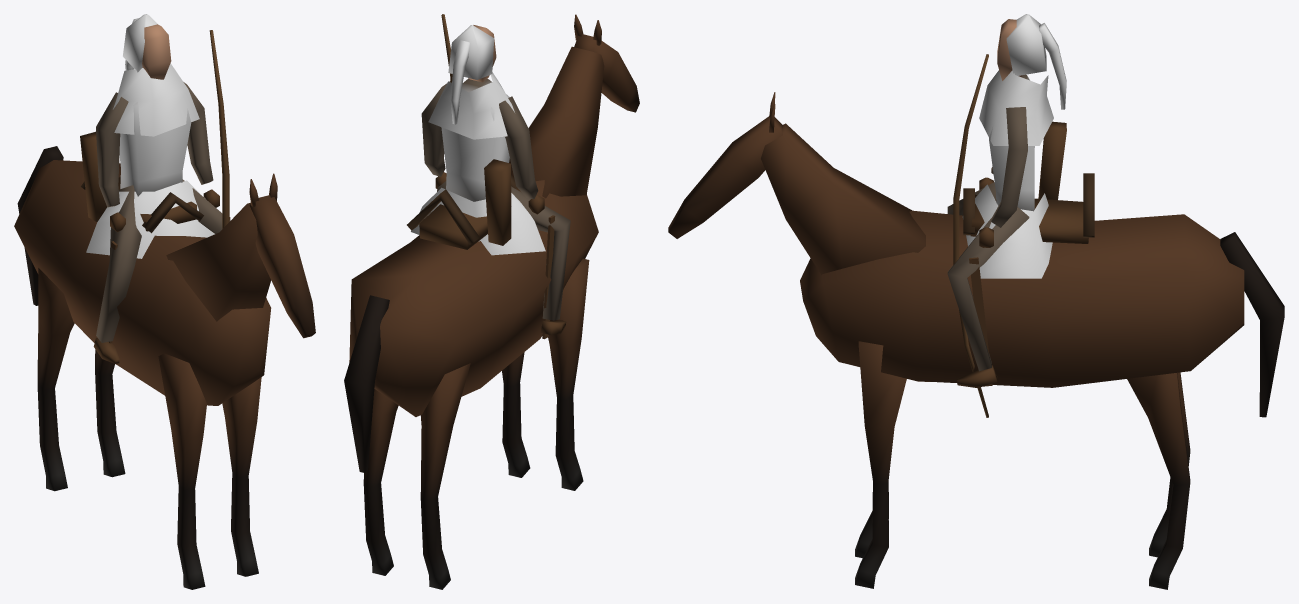
Rendered from cavalry_2_far.glb.
The picture shows the model from 3 angles, left to right: view 1: azimuth 30°, elevation 25°; view 2: azimuth 150°, elevation 25°; view 3: azimuth 270°, elevation 25°; orthographic projection. The views are drawn at different scales.
Visible parts, largest first — view 1: cavalry_2_far; view 2: cavalry_2_far; view 3: cavalry_2_far.
Boxes of the visible parts, bbox=[...] form: cavalry_2_far: bbox=[14, 14, 315, 589]; cavalry_2_far: bbox=[344, 14, 639, 589]; cavalry_2_far: bbox=[668, 14, 1284, 589].
Size of the model in its own units: 0.7168 by 2.61 by 2.62.
